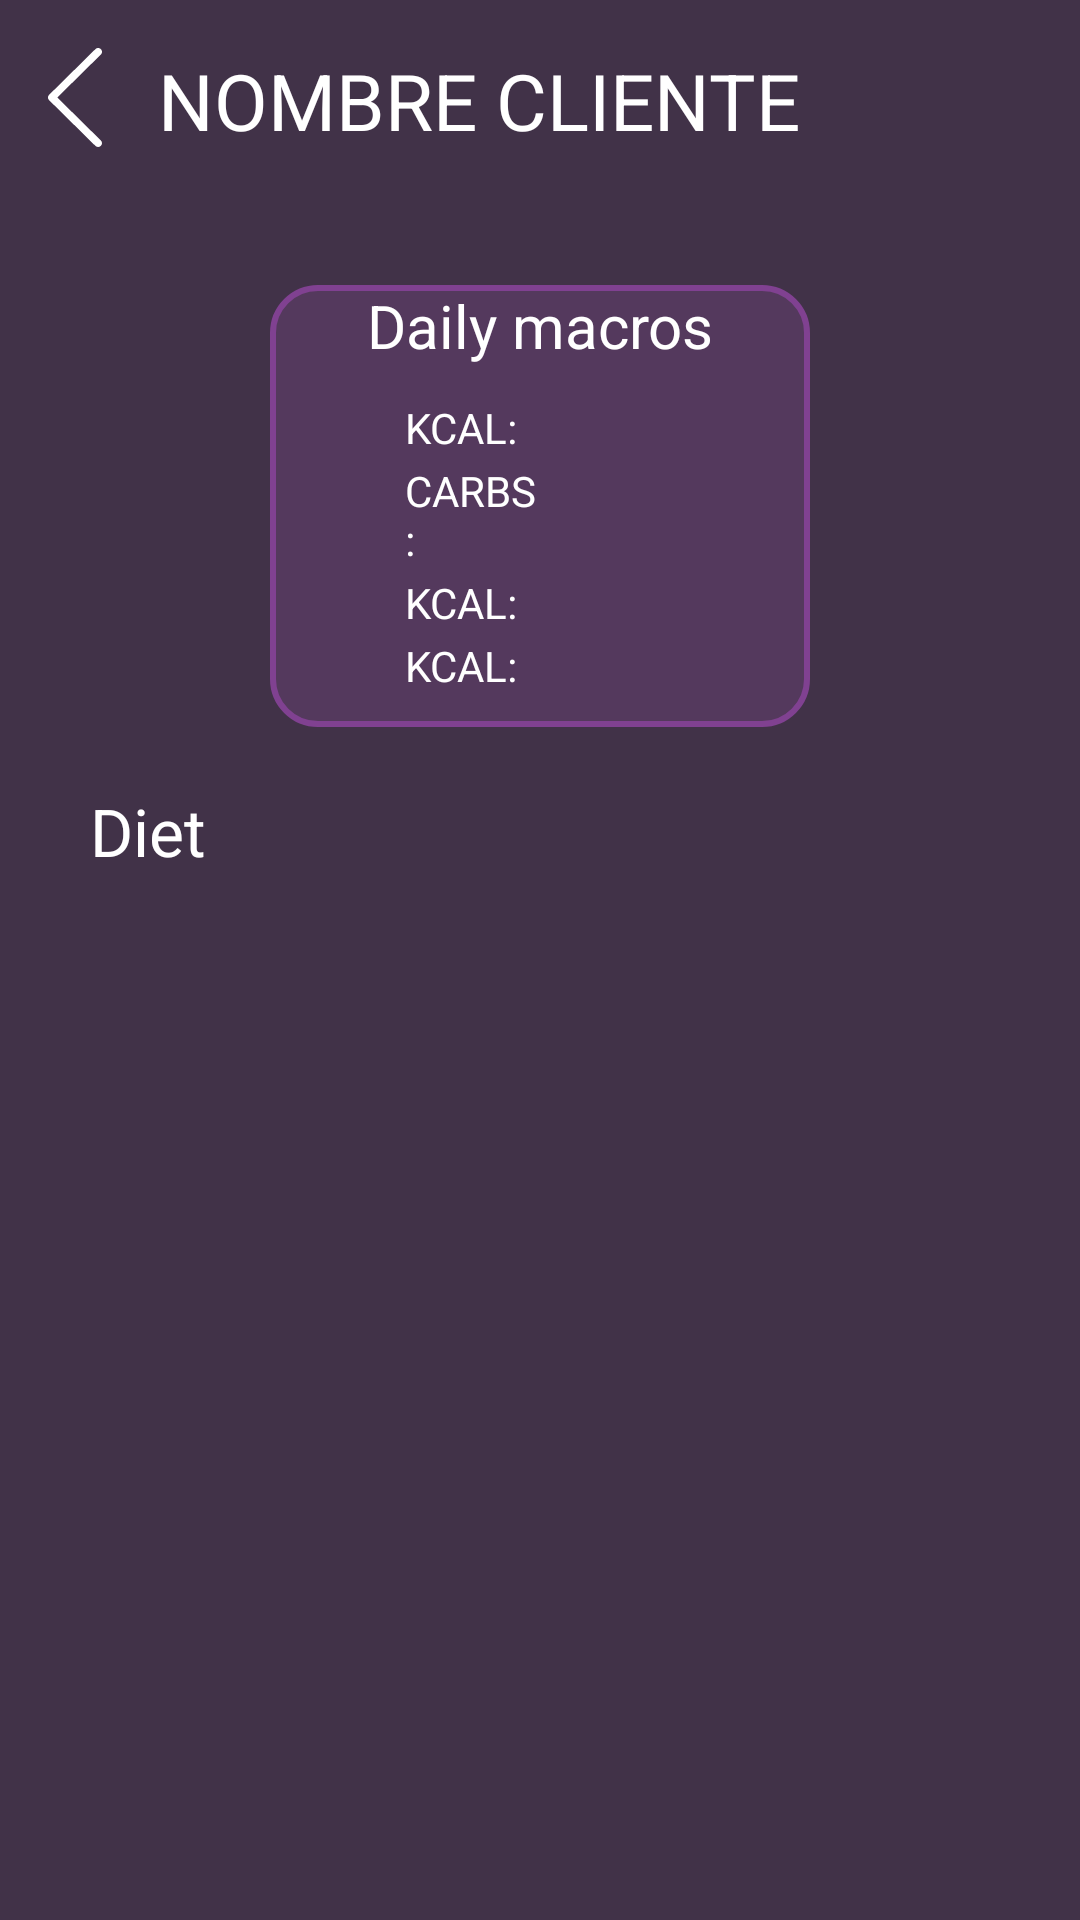

Icon click points for this 1080x1920 phone screenshot, format (x,y):
back: (75,97)
